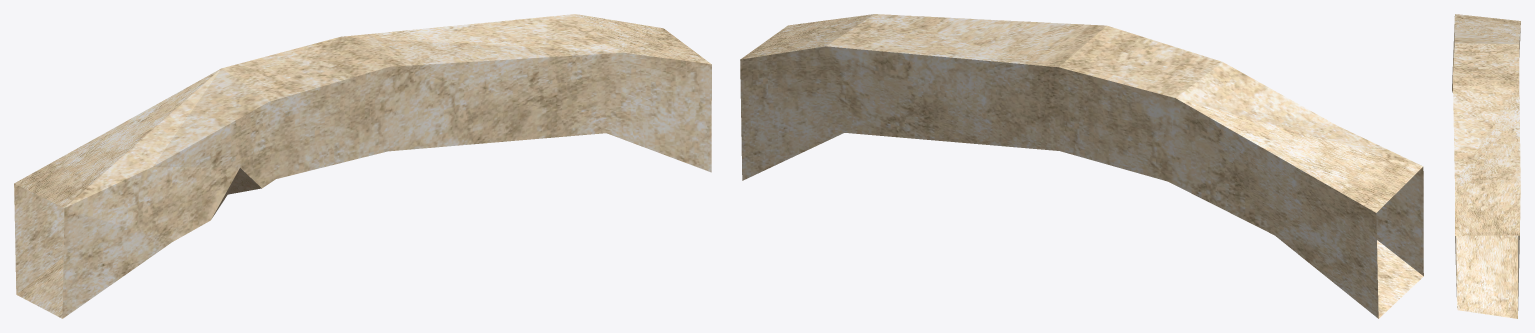
Rendered from thm_tato_imprv_over_beam_s02_l2.fbx.
The picture shows the model from 3 angles, left to right: view 1: azimuth 30°, elevation 25°; view 2: azimuth 150°, elevation 25°; view 3: azimuth 270°, elevation 25°; orthographic projection. The views are drawn at different scales.
Visible parts, largest first — view 1: mesh_node; view 2: mesh_node; view 3: mesh_node.
Part boxes in pixels (left/top/right/bottom): mesh_node: left=14, top=14, right=711, bottom=318; mesh_node: left=740, top=14, right=1423, bottom=318; mesh_node: left=1452, top=14, right=1520, bottom=318.
Size of the model in its own units: 8.22 by 2.44 by 1.12.
Materials: 2 (2 with a texture image).
